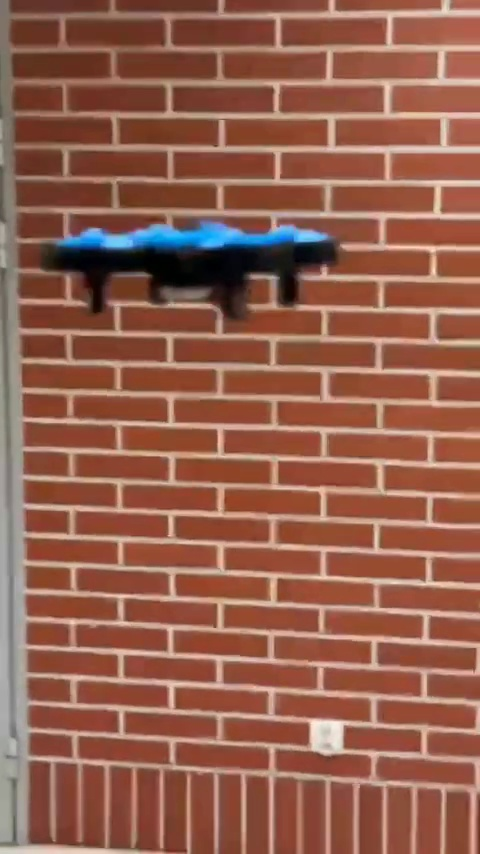drone: (29, 225, 343, 315)
